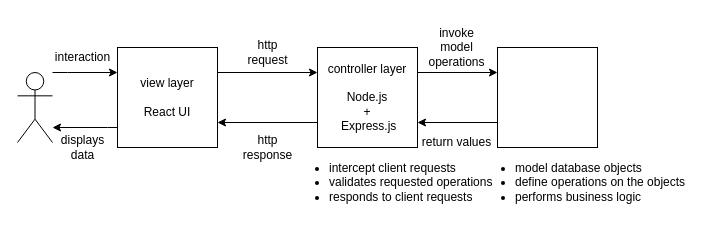
Image size: 721x239. Some labels were removed from this diagram. Each missing label, with the centre of its shape:
"model layer Mongoose" belongs at (547,97).
"user" belongs at (34,107).
